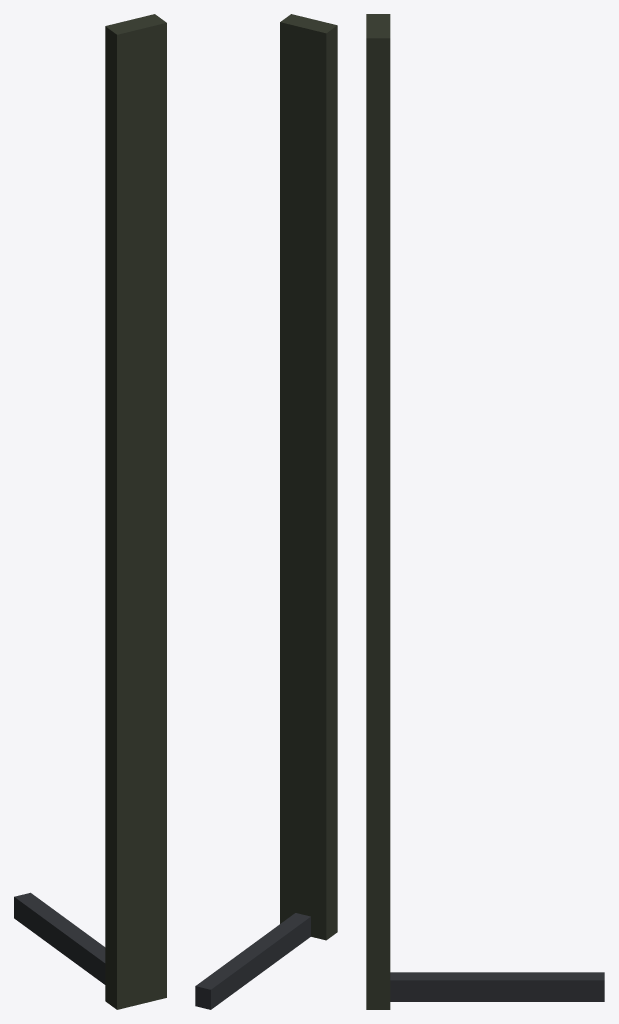
Rendered from Sling_2Point.fbx.
The picture shows the model from 3 angles, left to right: view 1: azimuth 30°, elevation 25°; view 2: azimuth 150°, elevation 25°; view 3: azimuth 270°, elevation 25°; orthographic projection. The views are drawn at different scales.
Parts seen in each view (by area): view 1: prims; view 2: prims; view 3: prims.
Part boxes in pixels (x1,y1,x2,y2): prims: (14, 14, 166, 1009); prims: (195, 14, 337, 1009); prims: (366, 14, 604, 1009).
Size of the model in its own units: 0.0144 by 0.27 by 0.06.
